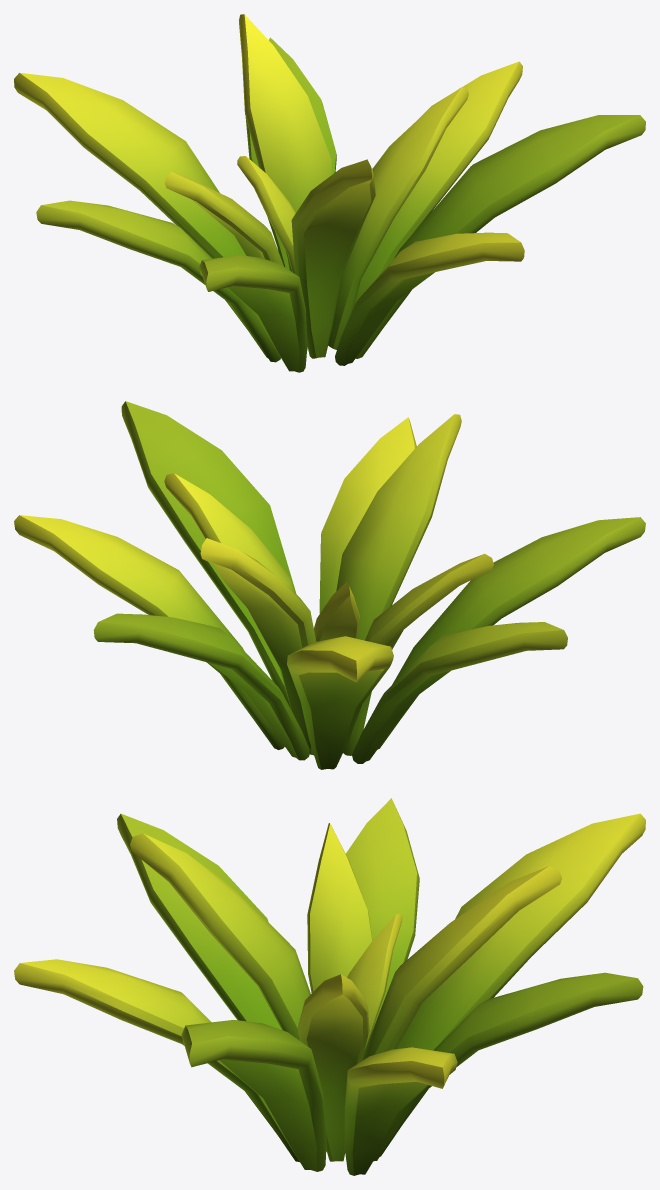
Rendered from garden_plant_5.glb.
3 views of the same model, one above another, from view 1: azimuth 30°, elevation 25°; view 2: azimuth 150°, elevation 25°; view 3: azimuth 270°, elevation 25° (orthographic). The views are drawn at different scales.
Parts seen in each view (by area): view 1: garden_plant_5; view 2: garden_plant_5; view 3: garden_plant_5.
Boxes of the visible parts, box(x1,y1,x2,y2) form: garden_plant_5: box(14, 14, 645, 372); garden_plant_5: box(14, 401, 645, 769); garden_plant_5: box(14, 798, 645, 1175).
Size of the model in its own units: 1.54 by 0.7571 by 1.44.
Materials: 1 (1 with a texture image).
